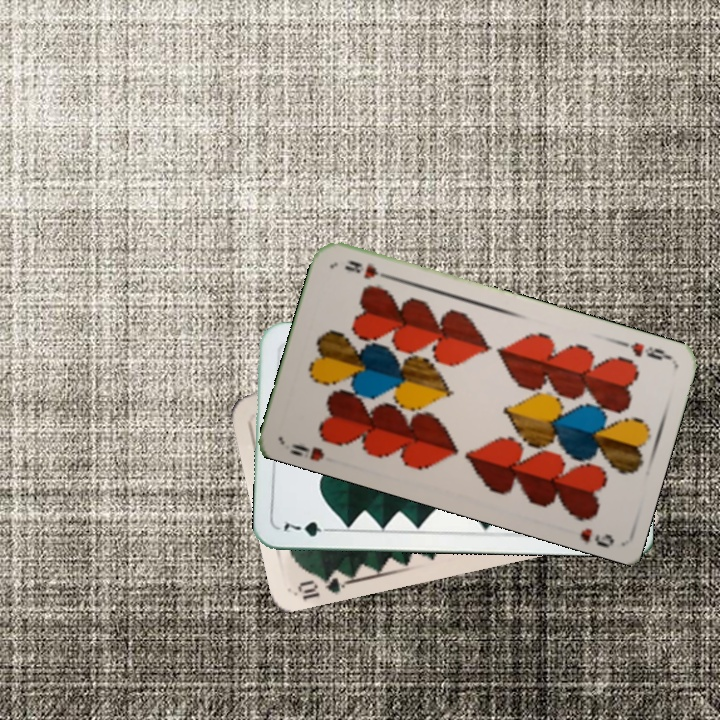G10: (293, 567, 351, 603)
G7: (280, 517, 337, 539)
H9: (615, 337, 673, 363), (285, 439, 327, 464)
